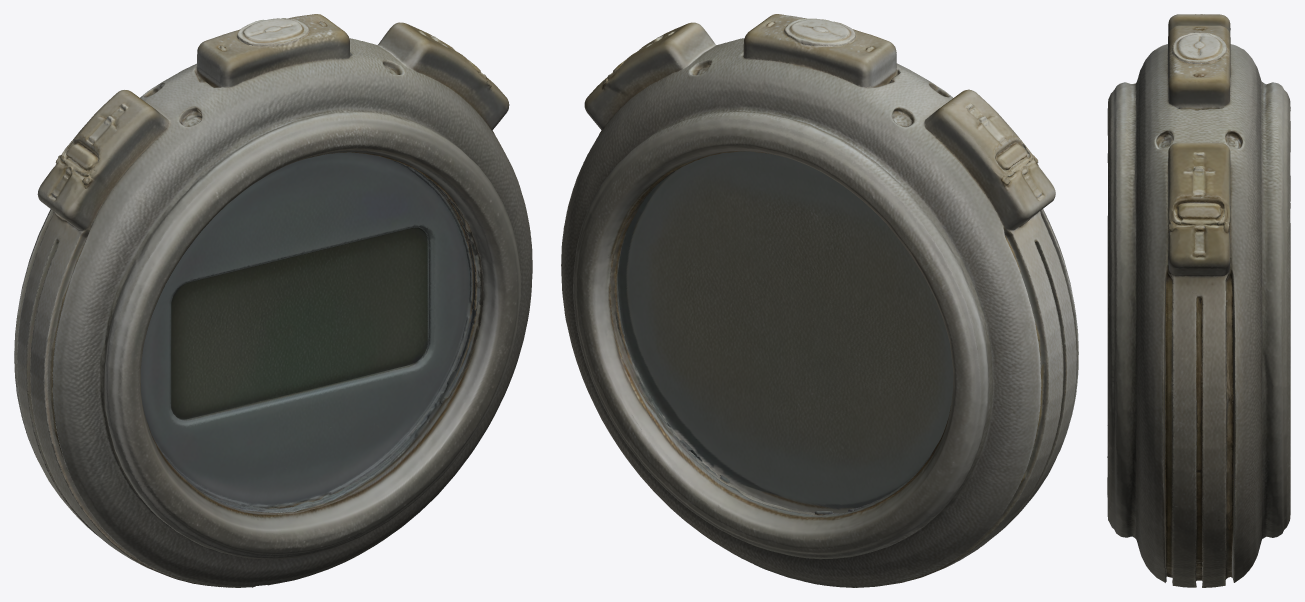
File: Stopwatch.glb
The picture shows the model from 3 angles, left to right: view 1: azimuth 30°, elevation 25°; view 2: azimuth 150°, elevation 25°; view 3: azimuth 270°, elevation 25°; orthographic projection. The views are drawn at different scales.
Parts seen in each view (by area): view 1: texture_mapping; view 2: texture_mapping; view 3: texture_mapping.
Boxes of the visible parts, x1,y1,x2,y2 form: texture_mapping: (14,14,532,587); texture_mapping: (561,14,1078,587); texture_mapping: (1107,14,1290,587).
Bounding box in the file's own units: 0.9411 × 0.998 × 0.3202.
1 material, 1 textured.
